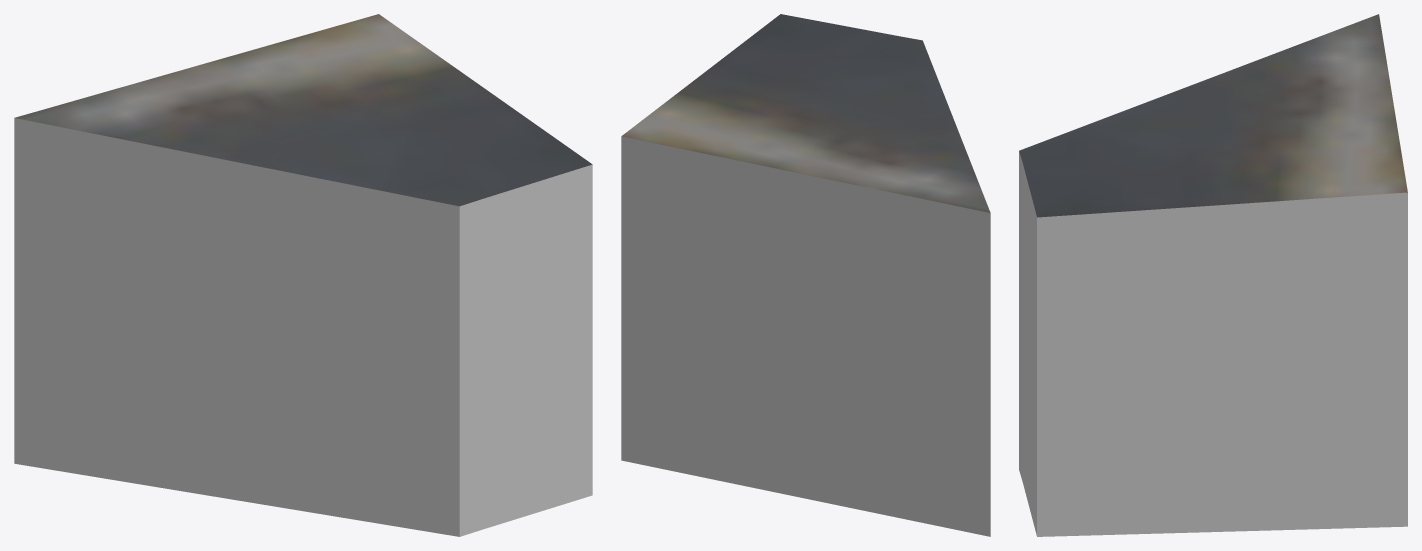
The model's file is DEBW_0010007TxiD.gltf.
3 renders of one model, left to right at view 1: azimuth 30°, elevation 25°; view 2: azimuth 150°, elevation 25°; view 3: azimuth 270°, elevation 25°, orthographic. The views are drawn at different scales.
Visible parts, largest first — view 1: Z_UP; view 2: Z_UP; view 3: Z_UP.
Part boxes in pixels (bbox=[...]): Z_UP: bbox=[14, 14, 592, 536]; Z_UP: bbox=[621, 14, 990, 536]; Z_UP: bbox=[1019, 14, 1407, 536].
Bounding box in the file's own units: 4.96 × 4.09 × 4.31.
2 materials, 1 textured.
